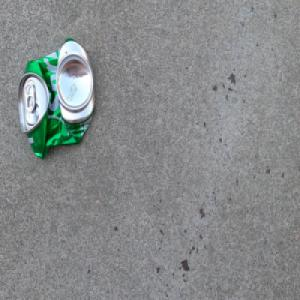SodaCan: (17, 36, 96, 163)
